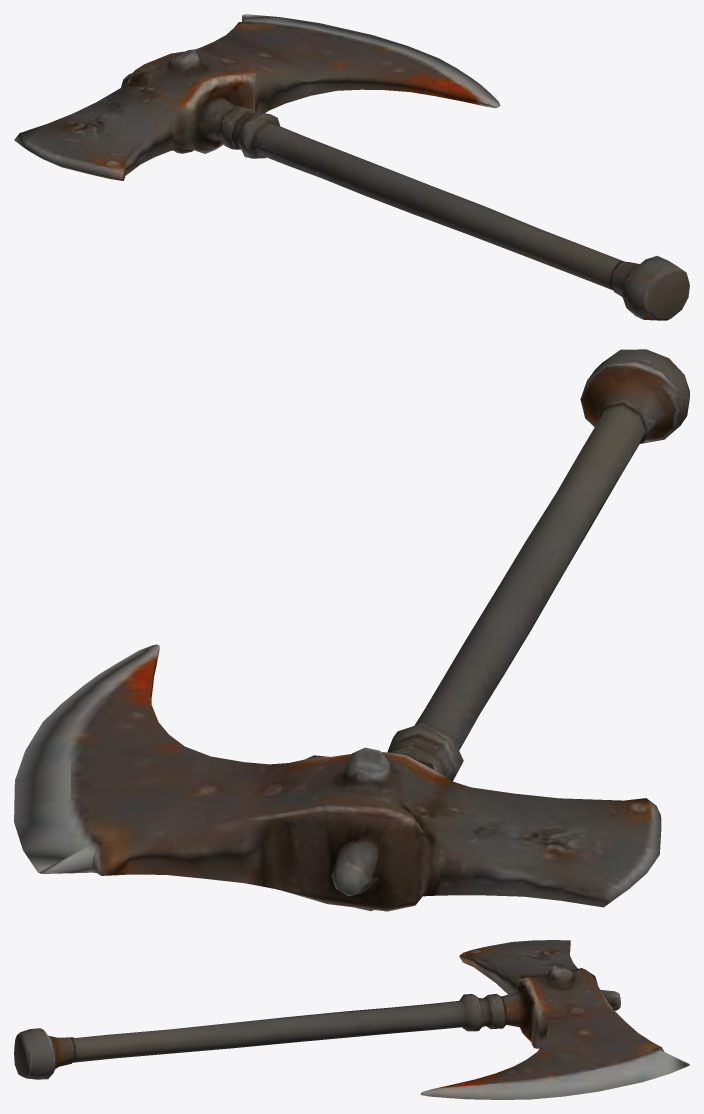
File: g_war_axe.fbx
3 renders of one model, top to bottom at view 1: azimuth 30°, elevation 25°; view 2: azimuth 150°, elevation 25°; view 3: azimuth 270°, elevation 25°, orthographic. The views are drawn at different scales.
Parts seen in each view (by area): view 1: tripo_node_4beea670-1d8a-4150-80fc-68d52ceb3a66; view 2: tripo_node_4beea670-1d8a-4150-80fc-68d52ceb3a66; view 3: tripo_node_4beea670-1d8a-4150-80fc-68d52ceb3a66.
Part boxes in pixels (x1=…): tripo_node_4beea670-1d8a-4150-80fc-68d52ceb3a66: x1=14, y1=14, x2=689, y2=320; tripo_node_4beea670-1d8a-4150-80fc-68d52ceb3a66: x1=14, y1=349, x2=689, y2=911; tripo_node_4beea670-1d8a-4150-80fc-68d52ceb3a66: x1=14, y1=940, x2=689, y2=1099.
Bounding box in the file's own units: 0.8724 × 0.208 × 1.56.
Materials: 1 (1 with a texture image).
